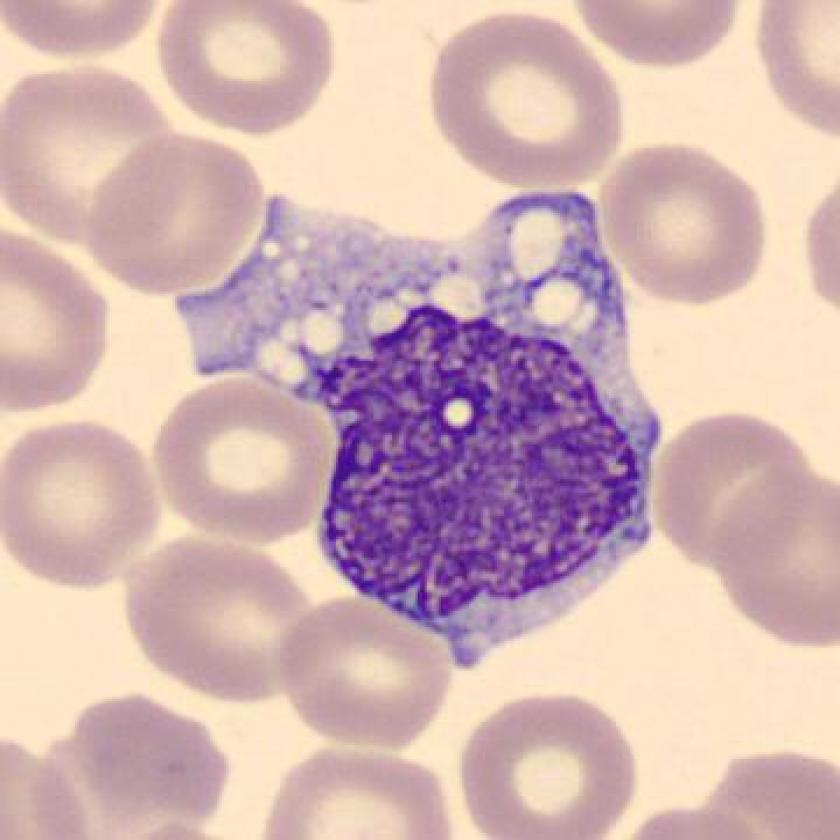monocyte: (160, 161, 694, 688)
